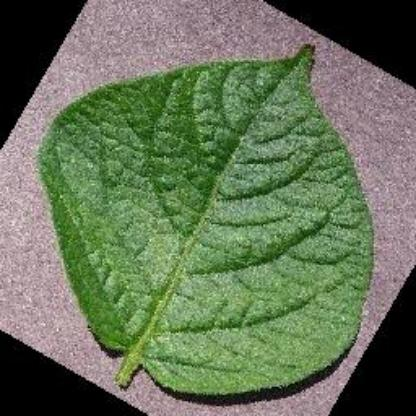Healthy-plant: (43, 47, 379, 394)
